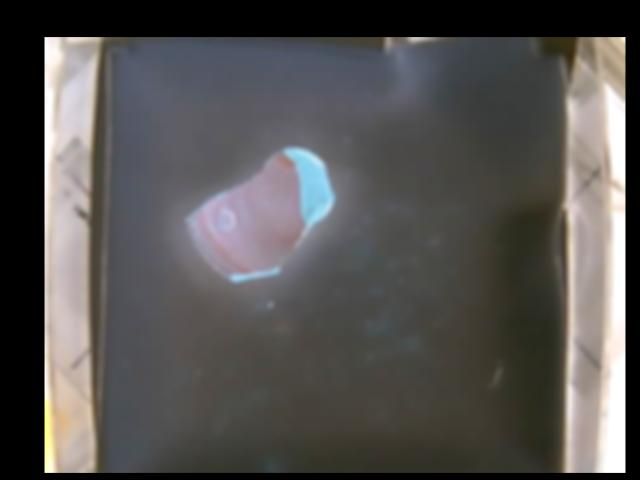China: (186, 146, 334, 281)
